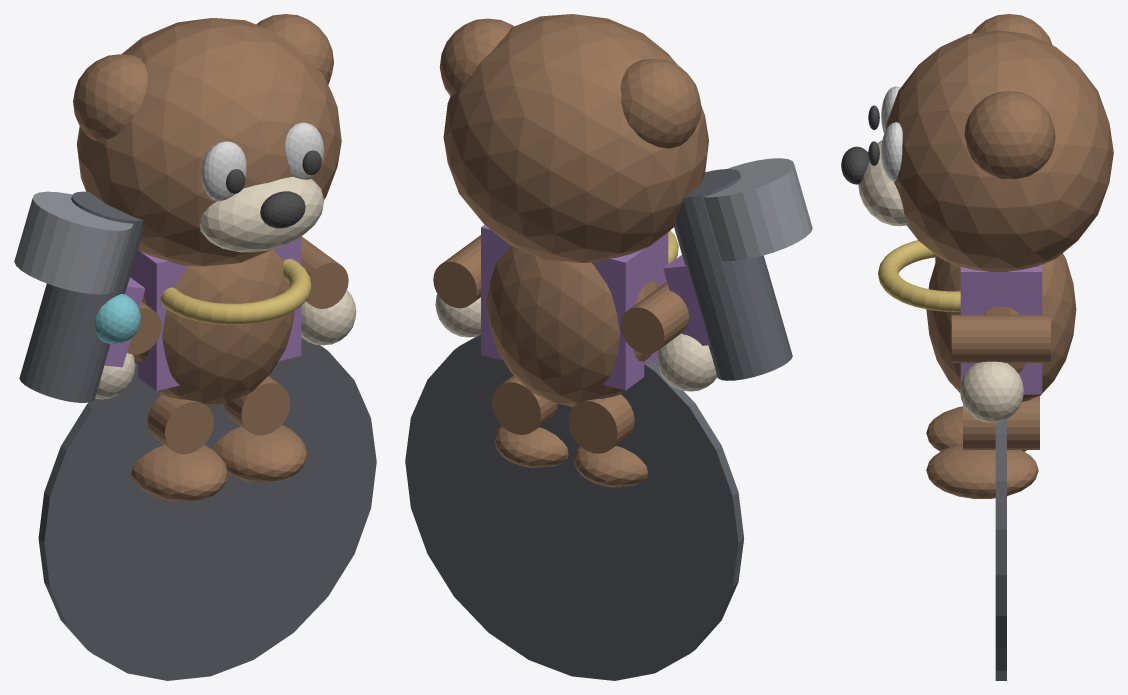
File: Kaisen_Prototype_V1.glb
3 renders of one model, left to right at view 1: azimuth 30°, elevation 25°; view 2: azimuth 150°, elevation 25°; view 3: azimuth 270°, elevation 25°, orthographic. The views are drawn at different scales.
Parts seen in each view (by area): view 1: Base, Head, Body, CannonBody, CannonMuzzle, Muzzle, Ear_-1, MageArmor, Foot_-1, Foot_1, ChestRing, Leg_-1 (+11 smaller); view 2: Base, Head, Body, CannonBody, CannonMuzzle, MageArmor, Ear_-1, Arm_-1, Leg_-1, Ear_1, Hand_-1, Leg_1 (+5 smaller); view 3: Head, Ear_1, Body, Arm_1, MageArmor, Foot_1, Hand_1, Base, ChestRing, Leg_1, Muzzle, Foot_-1 (+4 smaller).
Part boxes in pixels (x1,y1,x2,y2): Base: (38, 337, 376, 680); Head: (77, 18, 341, 266); Body: (133, 249, 294, 407); CannonBody: (19, 191, 143, 402); CannonMuzzle: (14, 191, 133, 294); Muzzle: (199, 176, 324, 252); Ear_-1: (73, 54, 147, 140); MageArmor: (130, 236, 301, 390); Foot_-1: (131, 445, 227, 501); Foot_1: (212, 425, 307, 482); ChestRing: (160, 258, 311, 324); Leg_-1: (147, 395, 213, 454); Base: (405, 334, 744, 680); Head: (443, 14, 708, 262); Body: (486, 246, 658, 407); CannonBody: (674, 169, 792, 380); CannonMuzzle: (703, 158, 812, 261); MageArmor: (481, 224, 668, 390); Ear_-1: (620, 58, 701, 148); Arm_-1: (620, 282, 689, 353); Leg_-1: (568, 394, 634, 453); Ear_1: (439, 18, 513, 95); Hand_-1: (657, 333, 717, 391); Leg_1: (491, 375, 557, 434); Head: (886, 30, 1113, 271); Ear_1: (964, 91, 1055, 178); Body: (926, 253, 1076, 401); Arm_1: (951, 315, 1050, 362); MageArmor: (960, 264, 1042, 394); Foot_1: (926, 443, 1038, 498); Hand_1: (960, 361, 1023, 422); Base: (995, 419, 1006, 680); ChestRing: (878, 240, 960, 311); Leg_1: (963, 395, 1039, 449); Muzzle: (858, 140, 907, 226); Foot_-1: (926, 406, 1026, 451).
Bounding box in the file's own units: 2.64 × 4.36 × 1.74.
